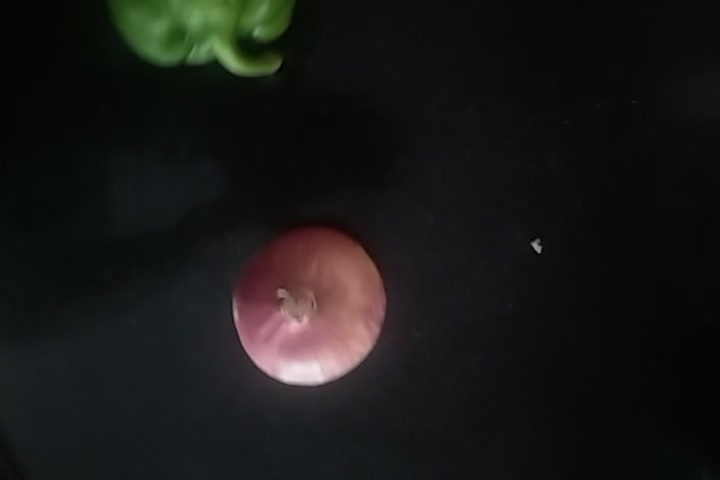capsicum: (112, 1, 300, 86)
onion: (239, 217, 389, 391)
